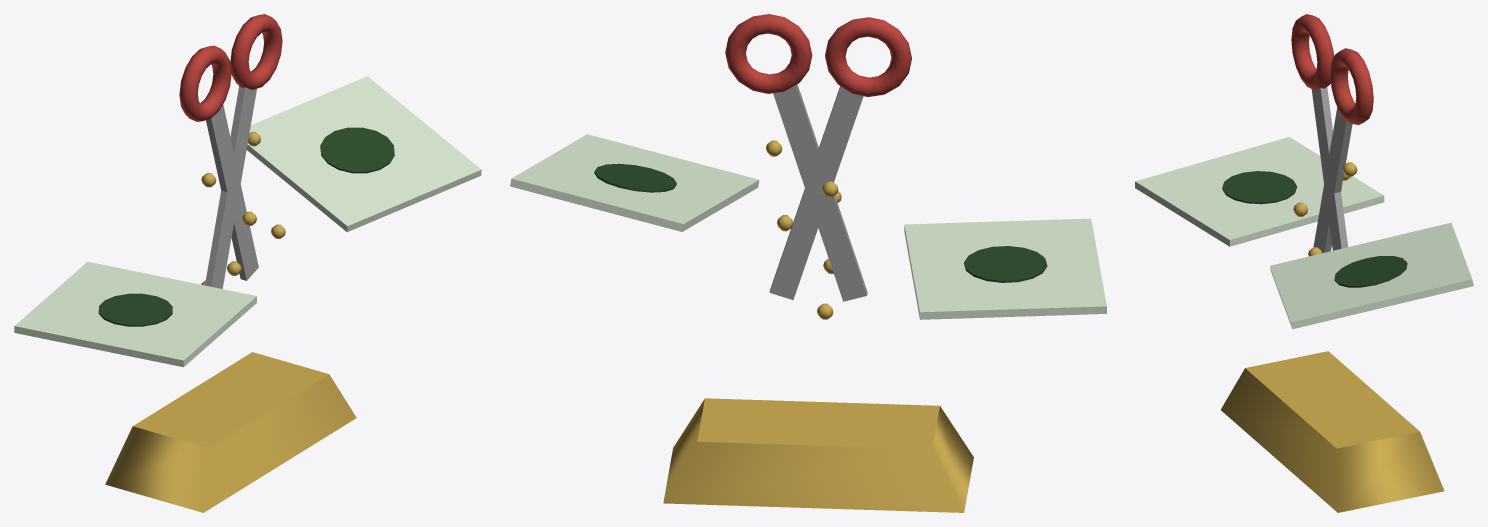
File: cut_dollar.glb
3 views of the same model, side by side, from view 1: azimuth 30°, elevation 25°; view 2: azimuth 150°, elevation 25°; view 3: azimuth 270°, elevation 25° (orthographic). The views are drawn at different scales.
Bounding box in the file's own units: 1.44 × 1.23 × 0.9068.
